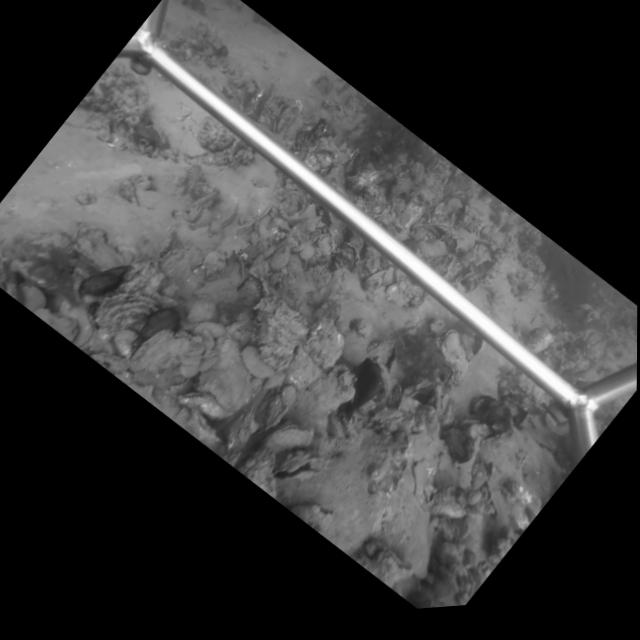Oyster-Closed: (125, 328, 196, 375), (354, 357, 392, 410), (175, 389, 226, 422), (225, 408, 256, 455), (265, 423, 313, 453), (437, 329, 469, 371), (175, 162, 204, 188), (360, 267, 387, 292), (387, 356, 399, 375)
Oyster-Indeterminate: (93, 291, 162, 330), (301, 315, 345, 370), (237, 342, 277, 379), (210, 203, 238, 231)
Oyster-Open: (276, 452, 320, 484), (269, 102, 298, 132)
